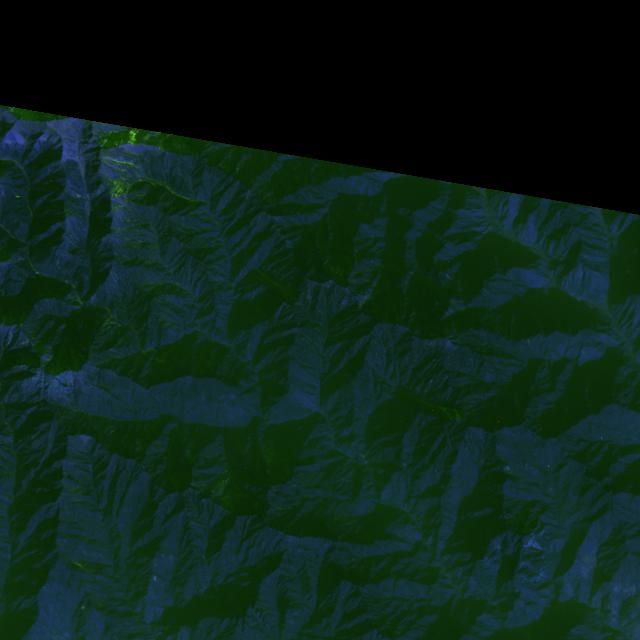landslides: (100, 148, 142, 173), (99, 157, 134, 179), (65, 368, 75, 407), (117, 198, 135, 218), (0, 166, 18, 181), (88, 184, 104, 200), (146, 277, 176, 284), (15, 338, 27, 354), (111, 232, 124, 246), (136, 229, 156, 237), (12, 126, 25, 138), (439, 407, 452, 419), (0, 492, 14, 503), (89, 168, 99, 182), (527, 540, 541, 550), (49, 166, 62, 175)
